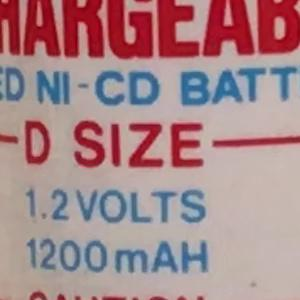NI-CD: (21, 61, 170, 114)
